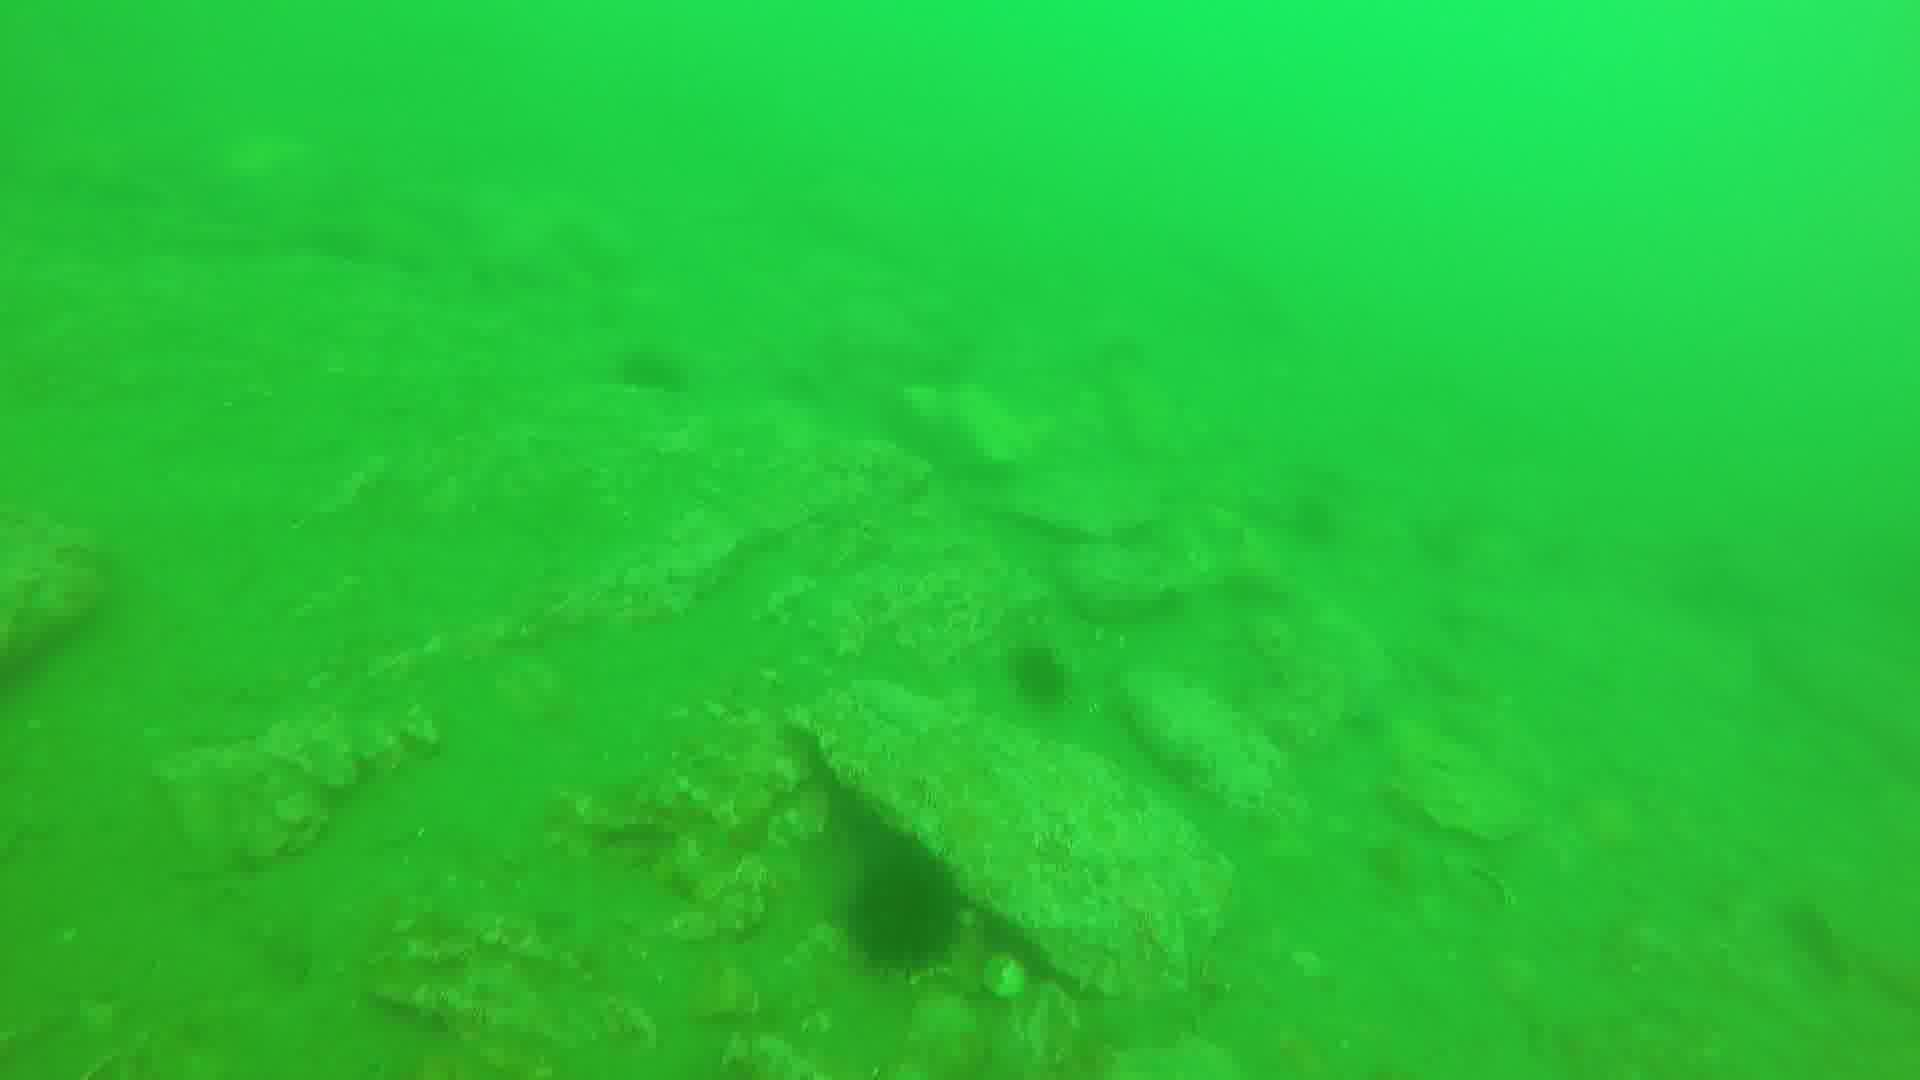echinus: (853, 852, 967, 977), (1004, 644, 1077, 716), (622, 348, 699, 407)
